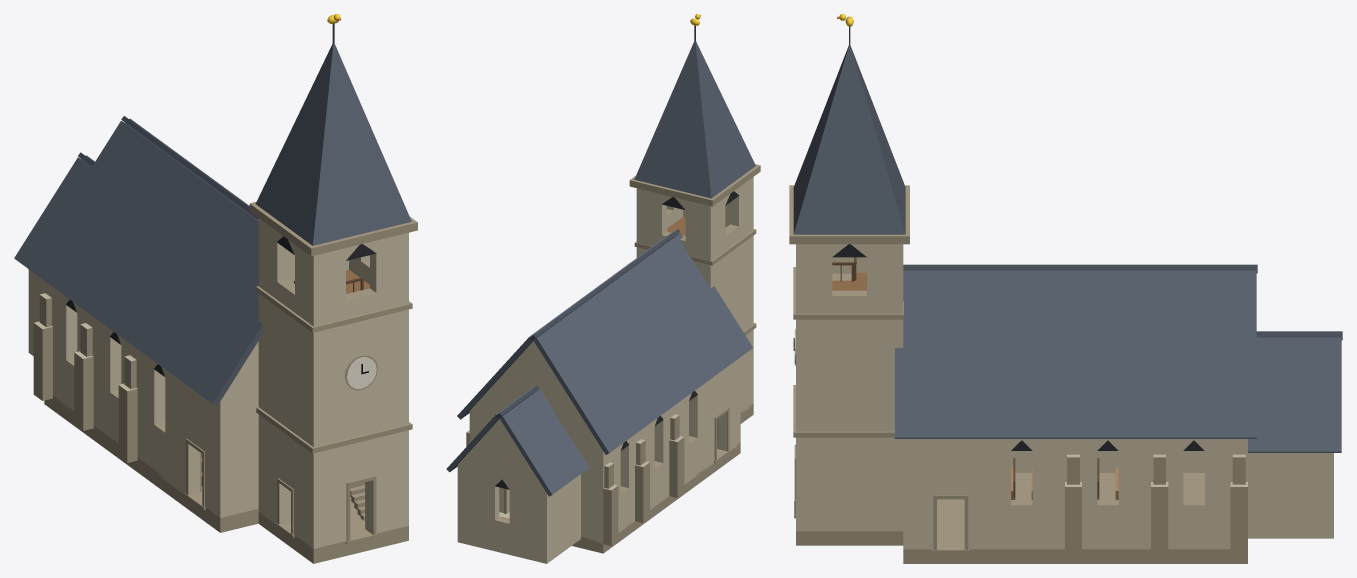
File: church.glb
3 renders of one model, left to right at view 1: azimuth 30°, elevation 25°; view 2: azimuth 150°, elevation 25°; view 3: azimuth 270°, elevation 25°, orthographic. The views are drawn at different scales.
Parts seen in each view (by area): view 1: LOD0; view 2: LOD0; view 3: LOD0.
Boxes of the visible parts, <box> form: LOD0: <box>14,14,417,563</box>; LOD0: <box>446,14,760,563</box>; LOD0: <box>789,14,1342,563</box>.
Size of what is drawn, in the model's own units: 10.27 by 26.09 by 25.7.
1 material, 1 textured.
